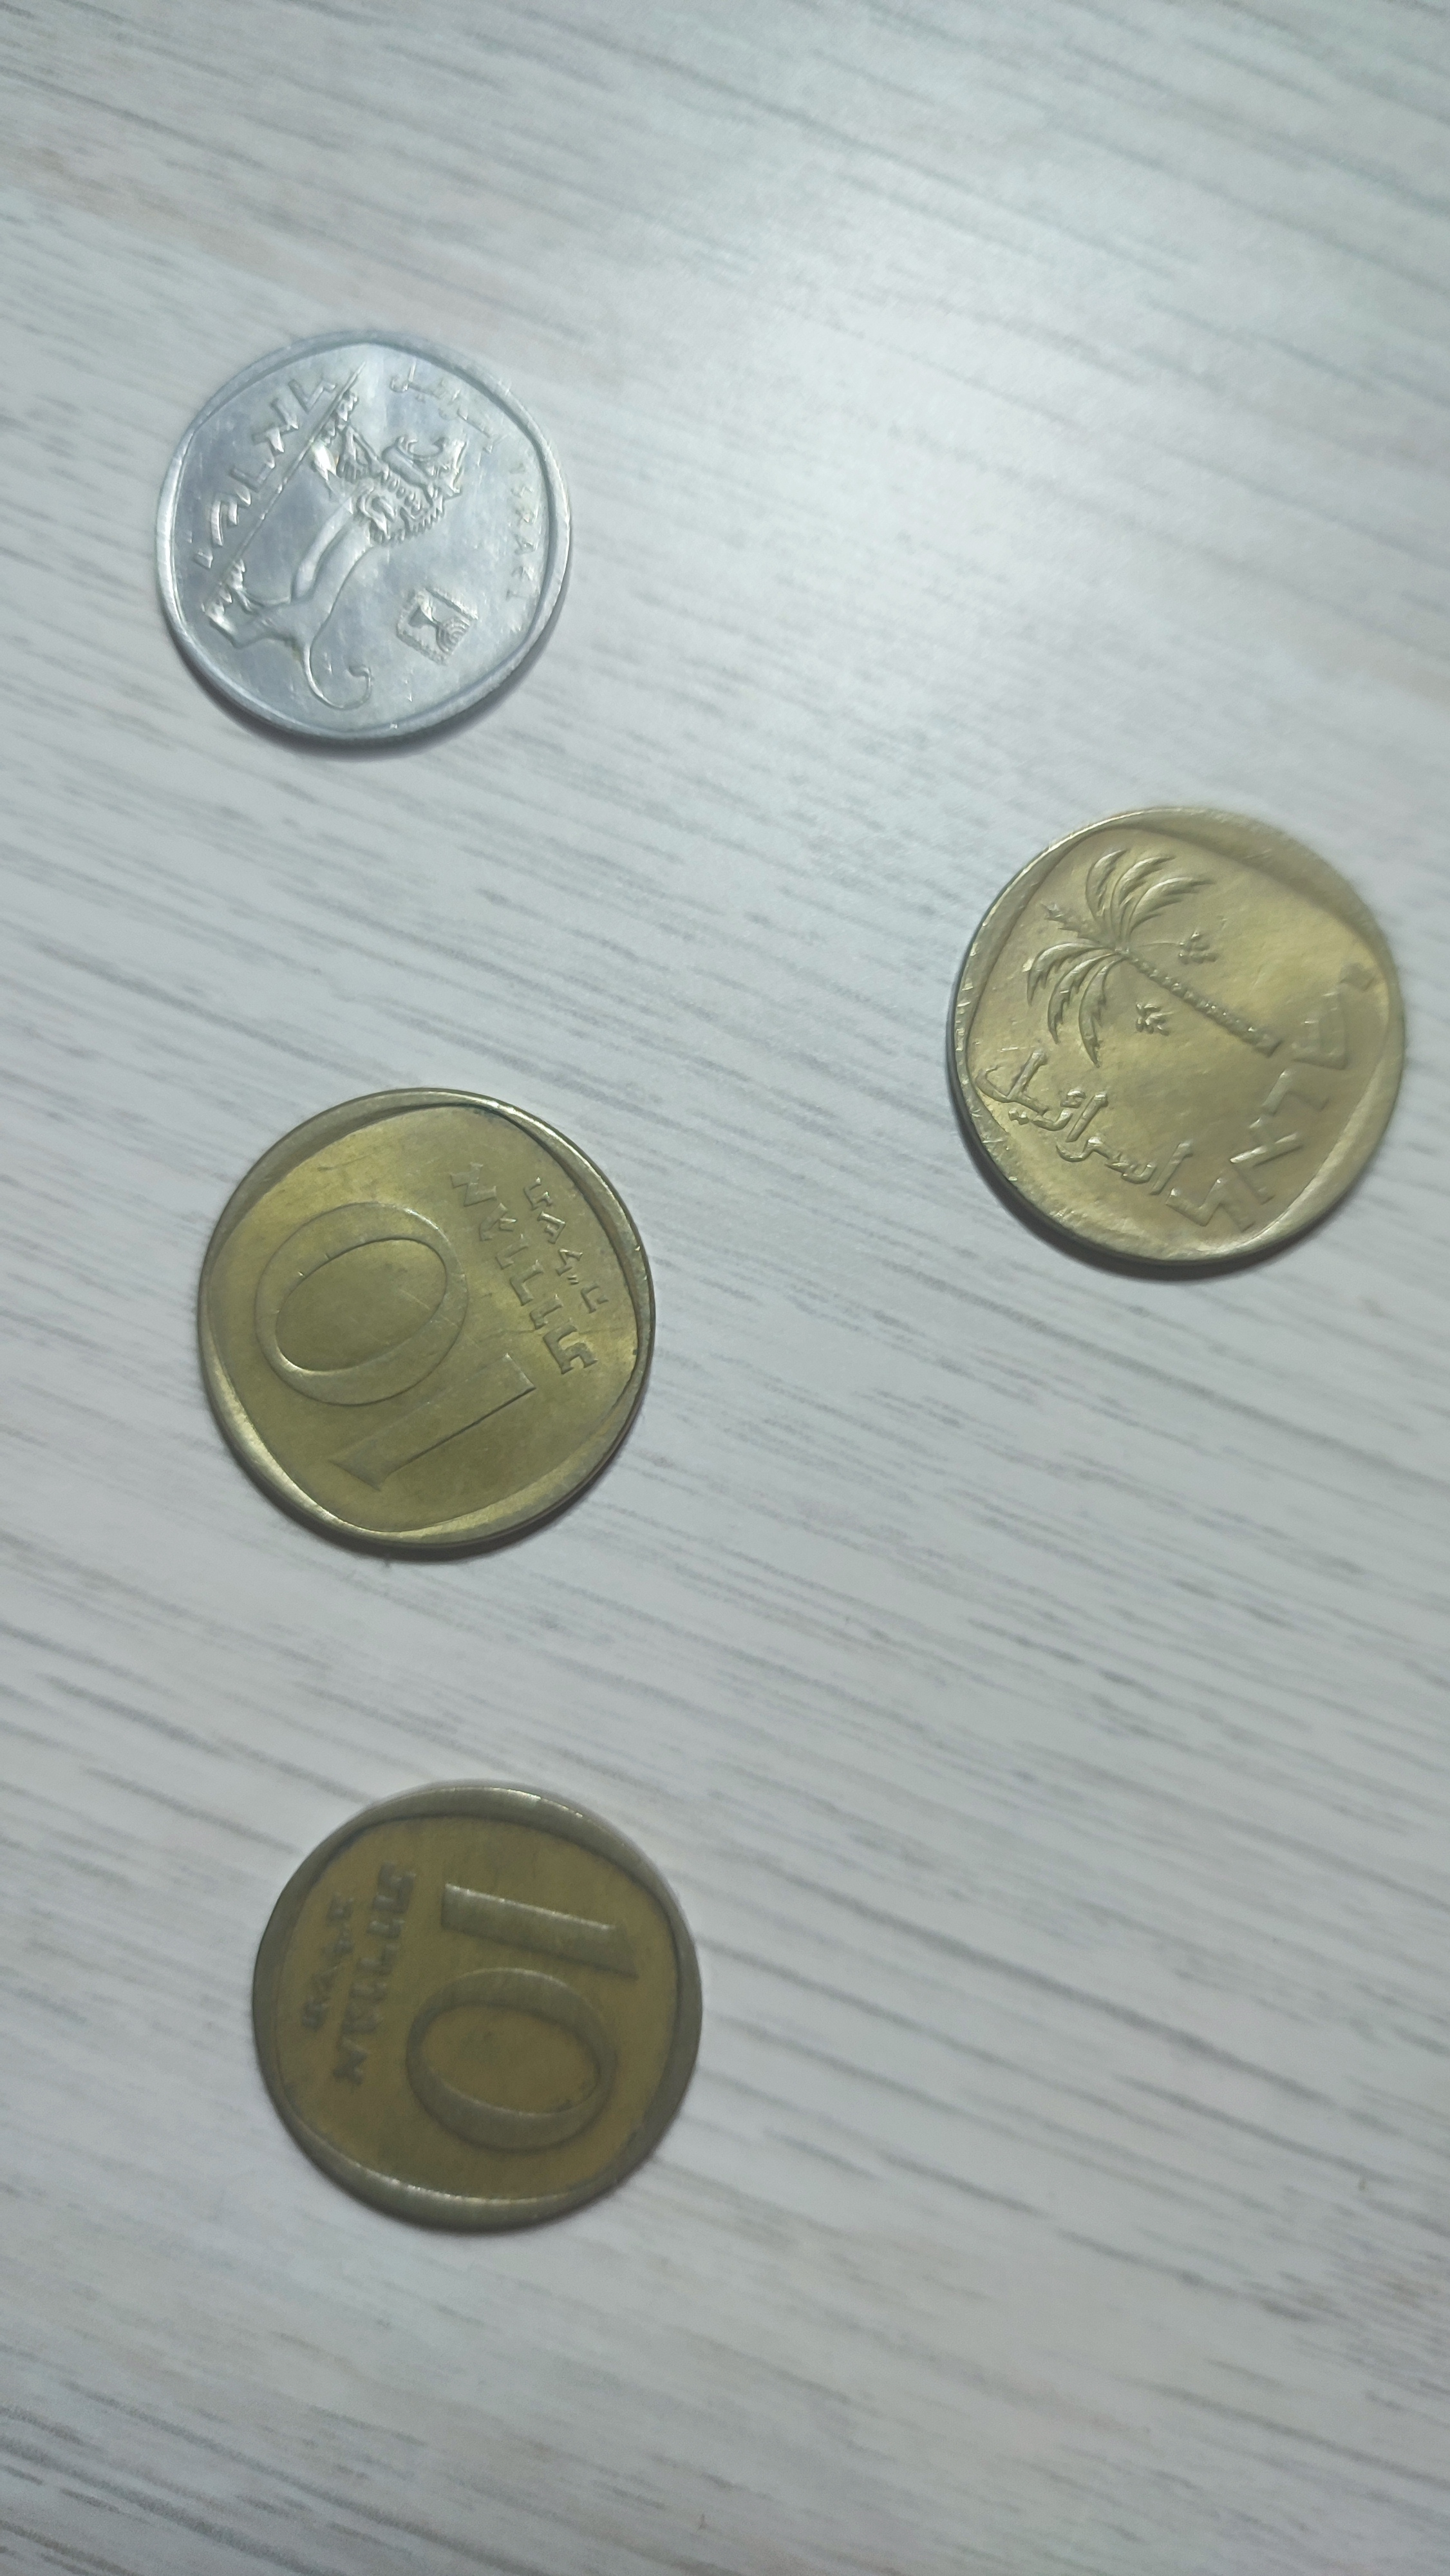1/2 old sheqel: (141, 322, 580, 764)
10 old agora brown: (932, 794, 1416, 1286), (187, 1079, 667, 1568), (240, 1769, 714, 2247)
